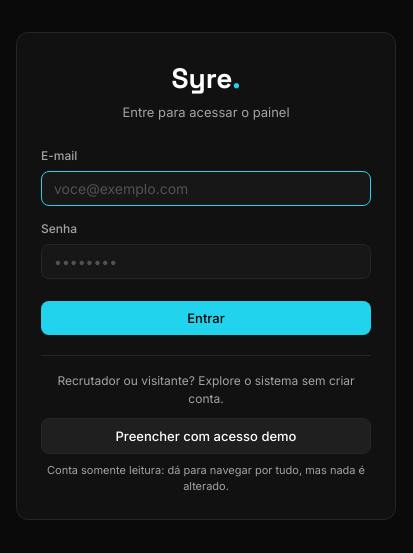
Login › mostra a mensagem de erro da API quando o login falha
This screenshot has width=413, height=553.
Type "gente@teste.com" into the field with placeholder "voce@exemplo.com" at (206, 188), box top-left (41, 171), bottom-right (371, 206)
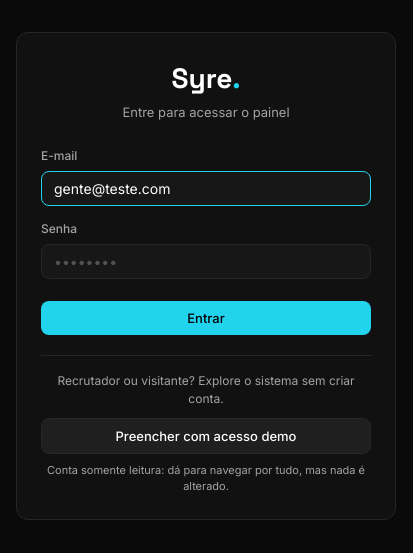
Type "senha-errada" into the password field with placeholder "••••••••" at (206, 261), box top-left (41, 244), bottom-right (371, 279)
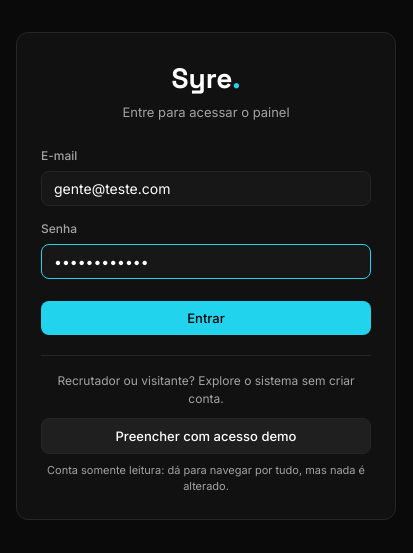
Click the button "Entrar" at (206, 318), box top-left (41, 301), bottom-right (371, 335)
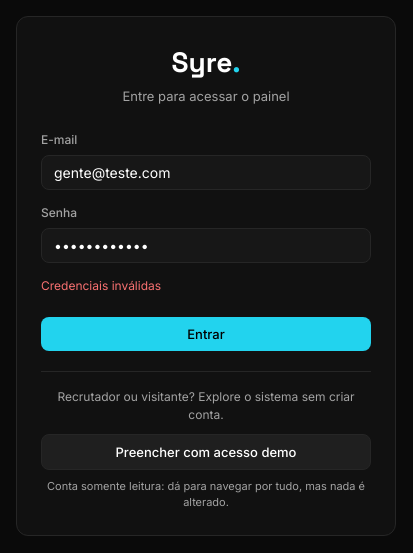
Now the text "Credenciais inválidas" is shown, box top-left (41, 278), bottom-right (161, 293)
